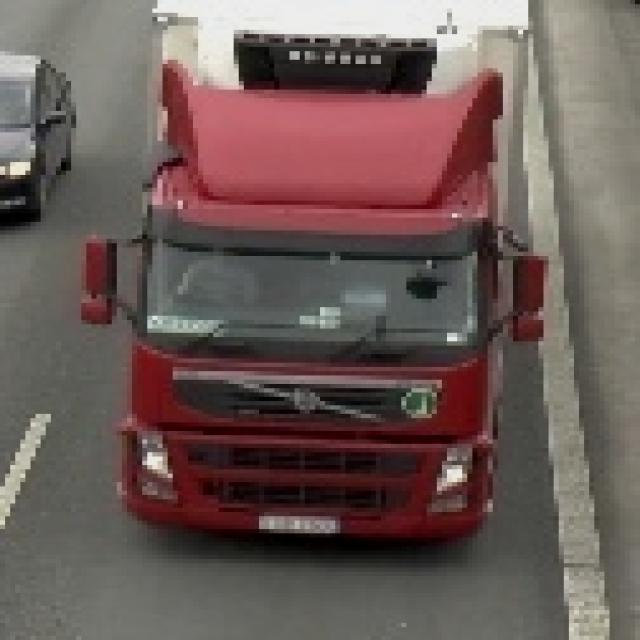truck: (77, 1, 545, 564)
